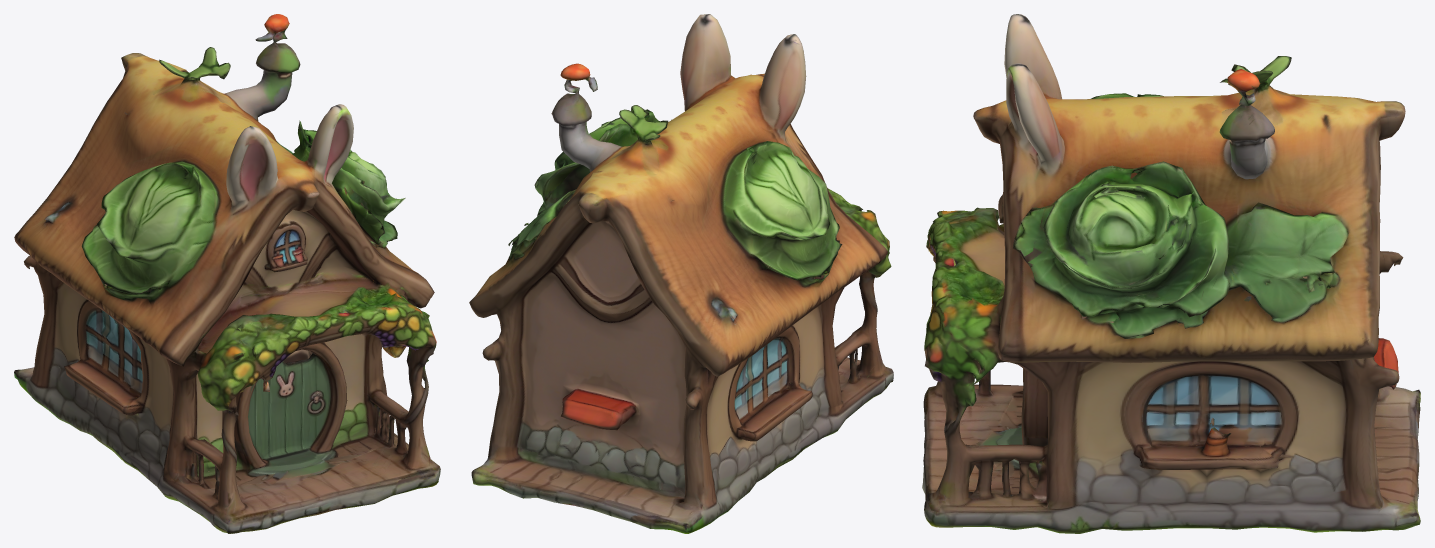
Rendered from Meshy_AI_Bunny_Burrow_Cottage_0504033609_texture.fbx.
3 views of the same model, side by side, from view 1: azimuth 30°, elevation 25°; view 2: azimuth 150°, elevation 25°; view 3: azimuth 270°, elevation 25° (orthographic). The views are drawn at different scales.
Parts seen in each view (by area): view 1: Mesh_0; view 2: Mesh_0; view 3: Mesh_0.
Part boxes in pixels (bbox=[...]): Mesh_0: bbox=[14, 14, 440, 533]; Mesh_0: bbox=[469, 14, 893, 533]; Mesh_0: bbox=[922, 14, 1420, 533].
Size of the model in its own units: 149 by 198 by 200.
Materials: 1 (1 with a texture image).
